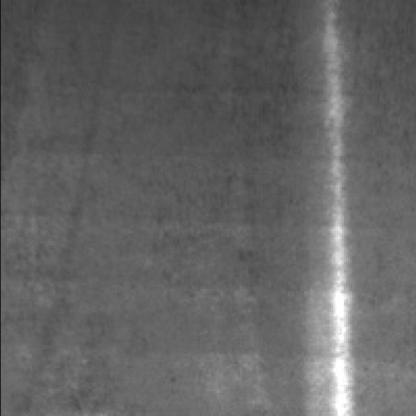scratches: (308, 2, 362, 412)
